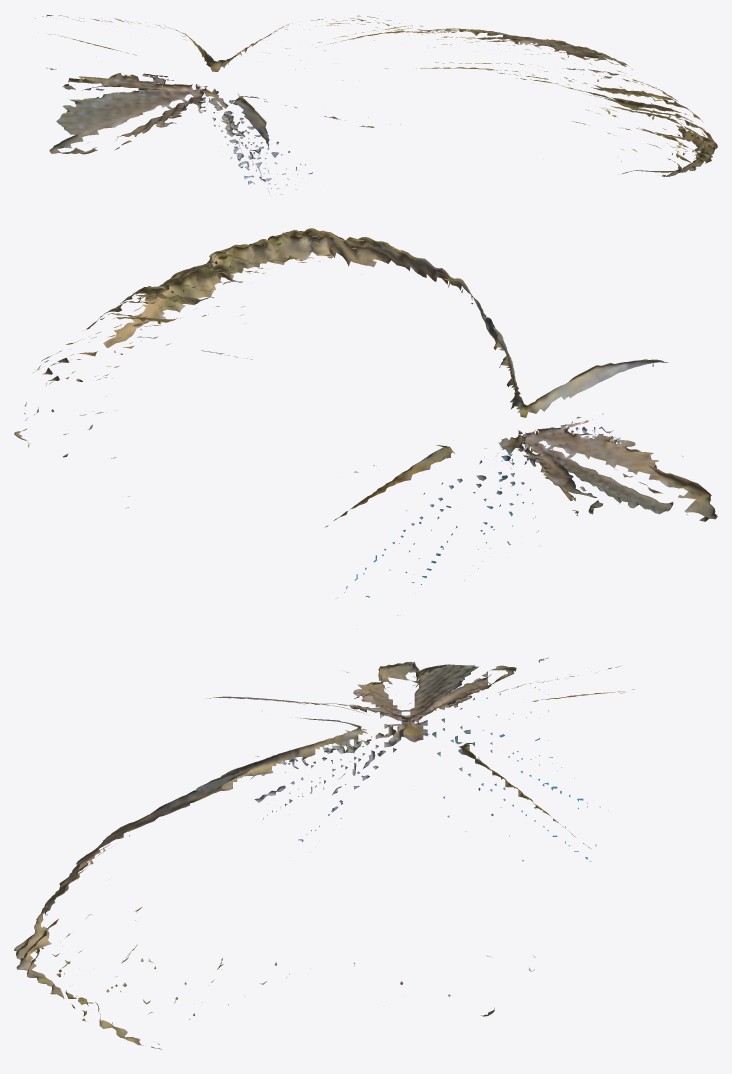
Rendered from meadow-collider.glb.
The picture shows the model from 3 angles, top to bottom: view 1: azimuth 30°, elevation 25°; view 2: azimuth 150°, elevation 25°; view 3: azimuth 270°, elevation 25°; orthographic projection. The views are drawn at different scales.
Visible parts, largest first — view 1: world; view 2: world; view 3: world.
Boxes of the visible parts, x1,y1,x2,y2 form: world: (35, 15, 717, 194); world: (14, 228, 717, 615); world: (14, 657, 634, 1049).
Bounding box in the file's own units: 191 × 39.45 × 172.
